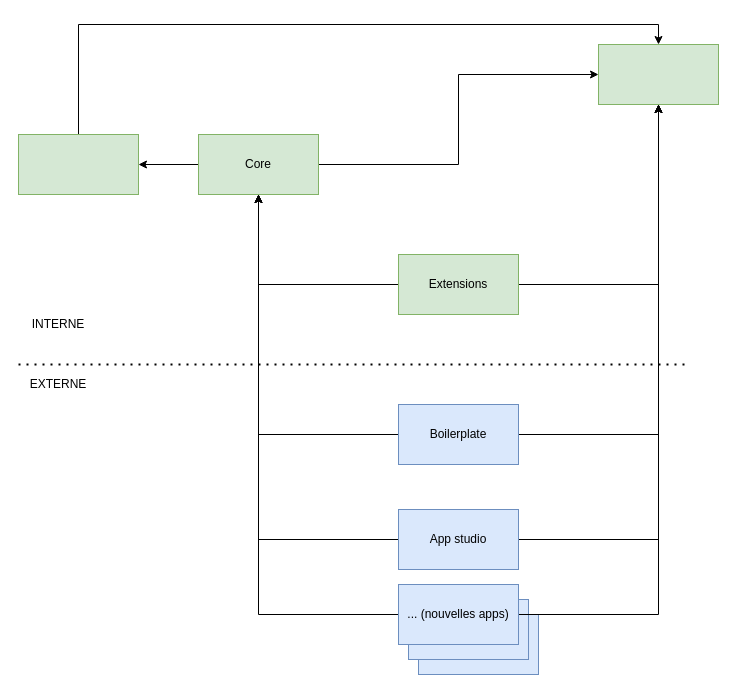
The diagram is 736 pixels wide and 692 high, and some of its shapes have lost their labels. Each missing label, with the centre of its shape:
"Component" goes at (x=78, y=164).
"User Api" goes at (x=658, y=74).
